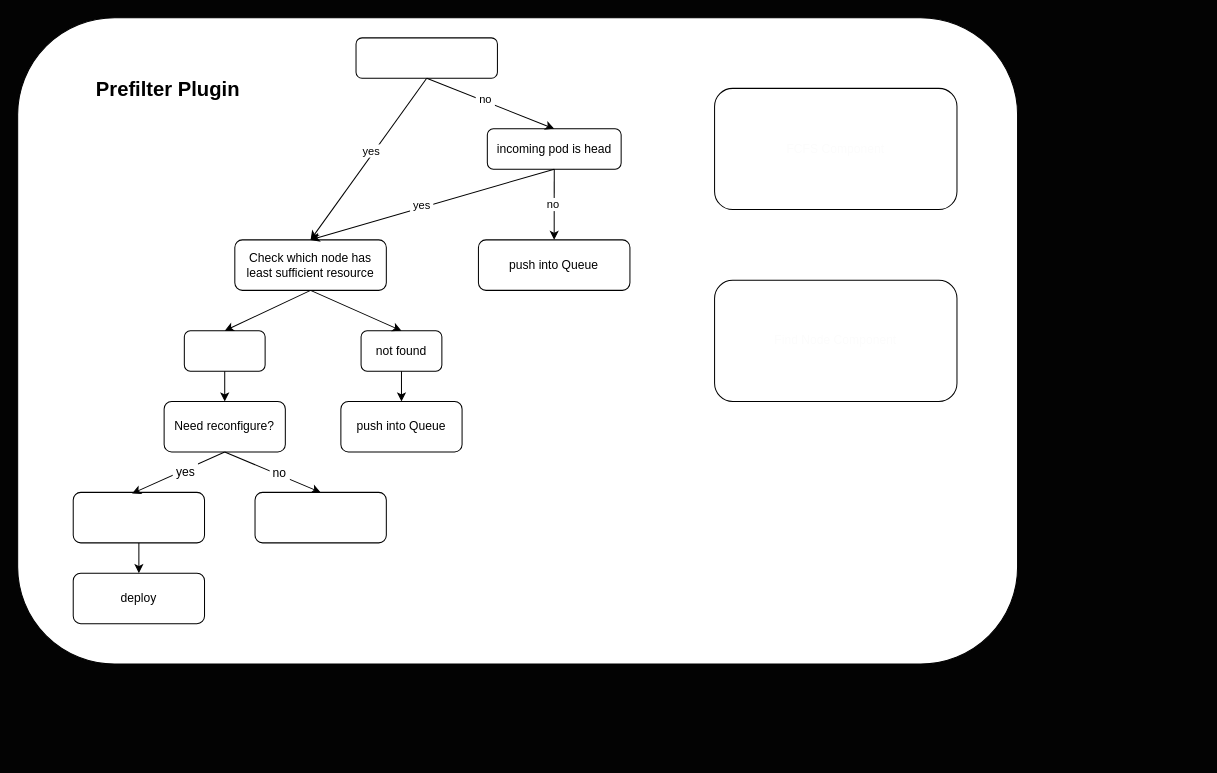
This 1217x773 diagram has some shape labels left out. The box of each missing label's shape, as (x1, y1, x2, y2) in pixels:
deploy directly: (254, 491, 386, 543)
FCFS Queue empty?: (355, 37, 497, 78)
found: (183, 330, 265, 371)
label node as target: (72, 491, 205, 543)
